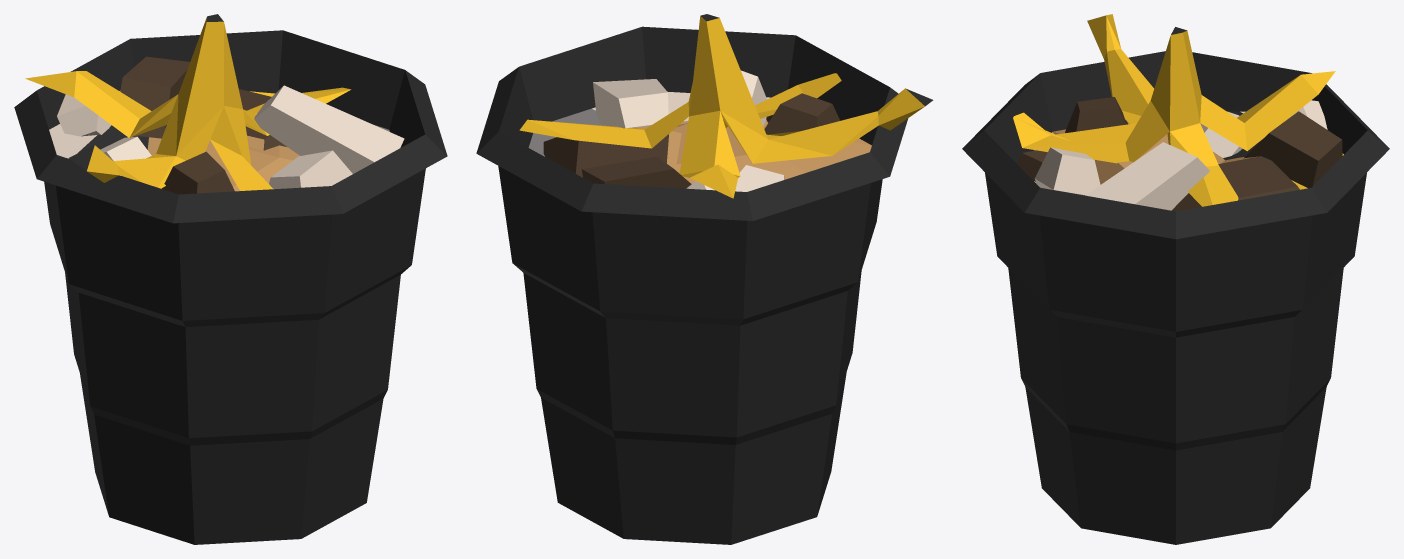
The model's file is furniture-bin-house-small-full.glb.
3 views of the same model, side by side, from view 1: azimuth 30°, elevation 25°; view 2: azimuth 150°, elevation 25°; view 3: azimuth 270°, elevation 25° (orthographic). The views are drawn at different scales.
Parts seen in each view (by area): view 1: bin-house-small-full; view 2: bin-house-small-full; view 3: bin-house-small-full.
Part boxes in pixels (x1,y1,x2,y2): bin-house-small-full: [14, 14, 447, 544]; bin-house-small-full: [476, 14, 933, 544]; bin-house-small-full: [962, 14, 1389, 544].
Size of the model in its own units: 0.3092 by 0.3584 by 0.3079.
